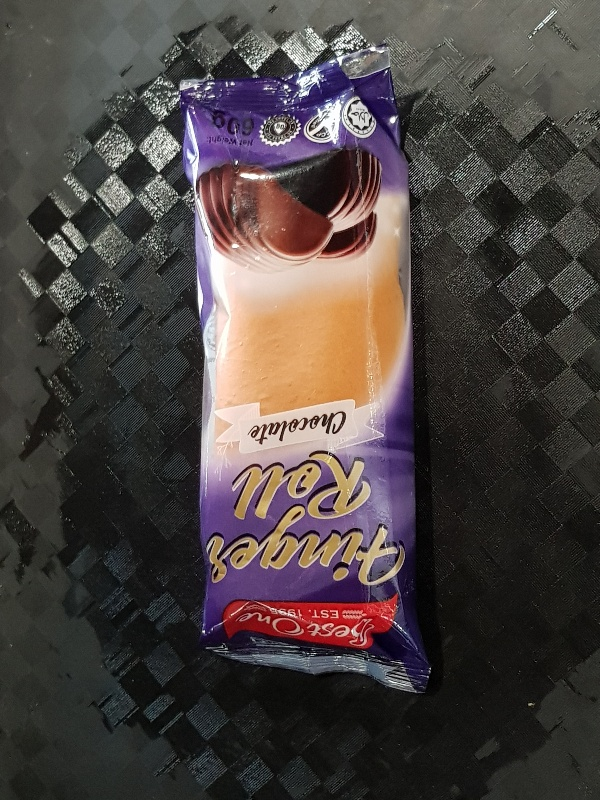Tinges Roll Chocolate: (178, 50, 430, 696)
